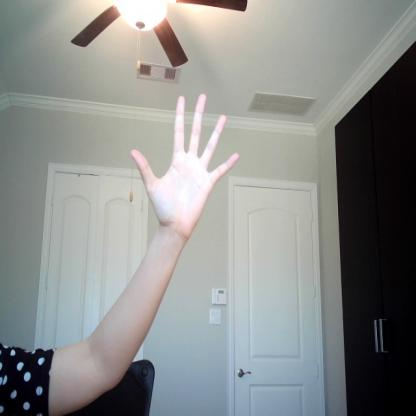five: (128, 95, 241, 242)
